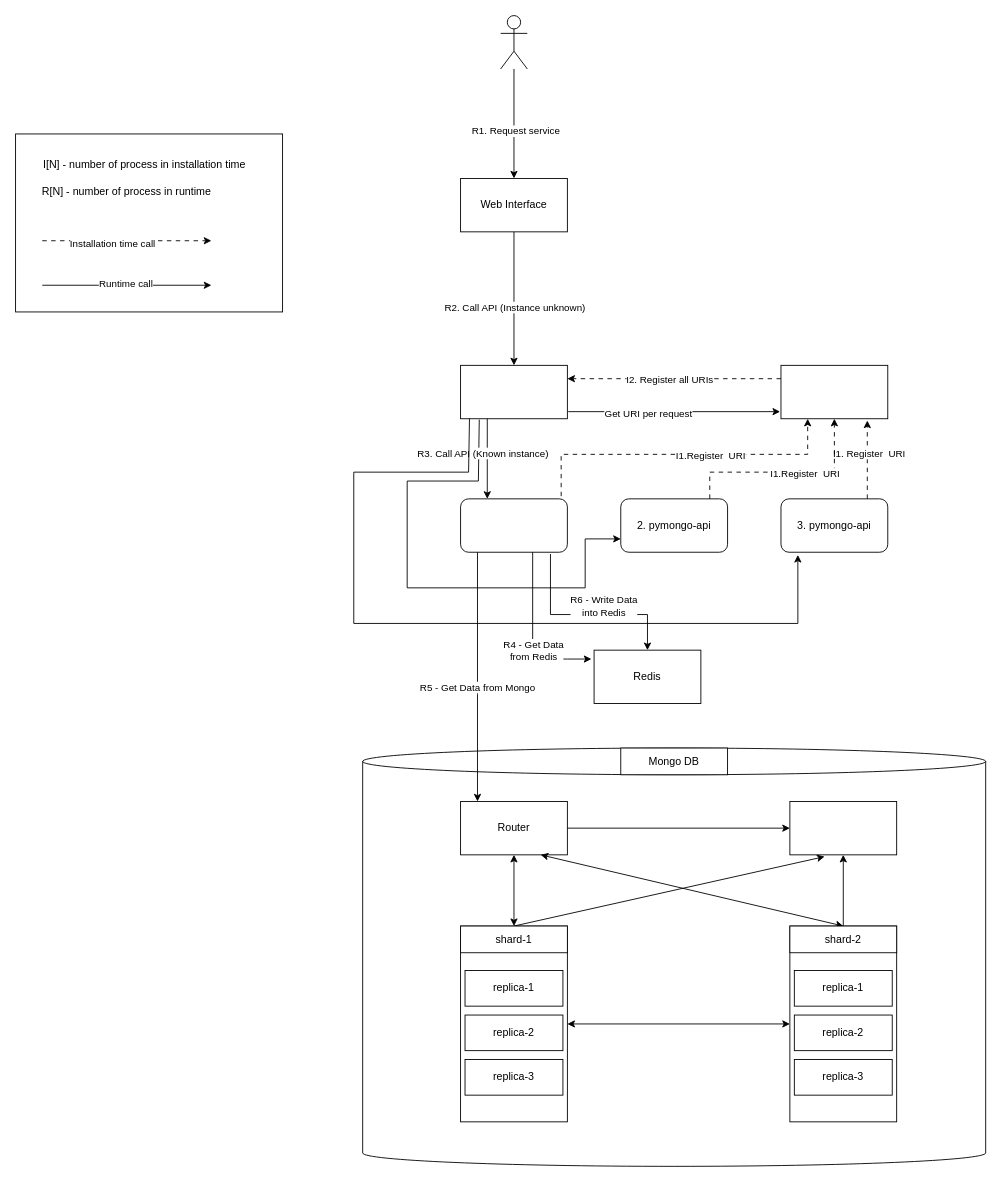
Some shapes in this 1001 by 1182 pixel diagram are drawn without their labels. Here are the shapes that lost their labels. From the top down, the centre of each, then its label:
the point at 513,42: User
the point at 513,391: API Gateway
the point at 834,391: Consul
the point at 513,525: 1. pymongo-api
the point at 843,828: Configuration
